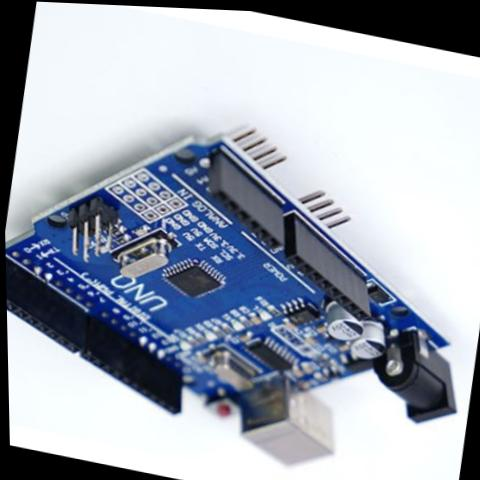Arduino-Uno: (1, 70, 480, 480)
